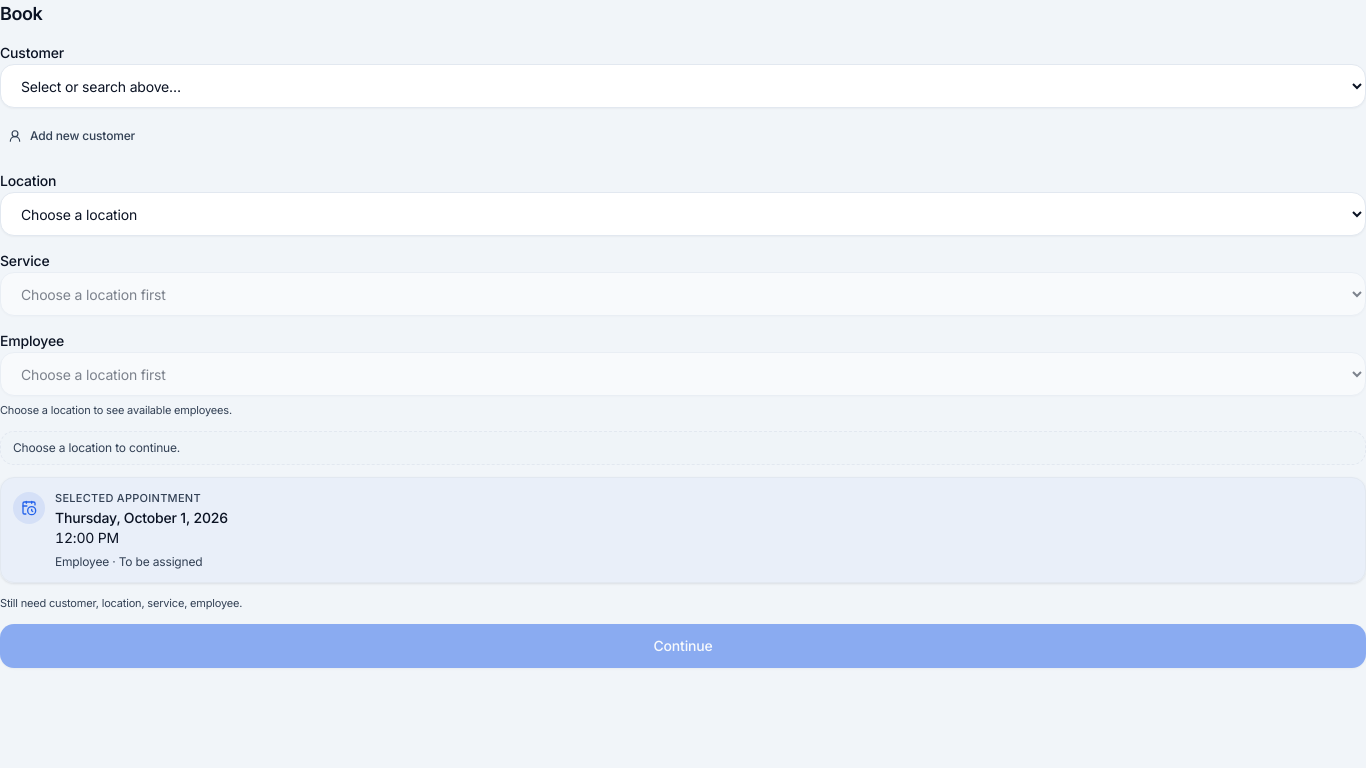
M1B Quick Appointment › places Location before Service, keeps draft null and latent fallbacks unreachable until explicit choice
Expected: the dropdown labelled "Service" is disabled, [0,272,1365,316]
Expected: the dropdown labelled "Employee" is disabled, [0,352,1365,396]
Select "Location B" in the dropdown labelled "Location" at (683, 214), box [0,192,1365,236]
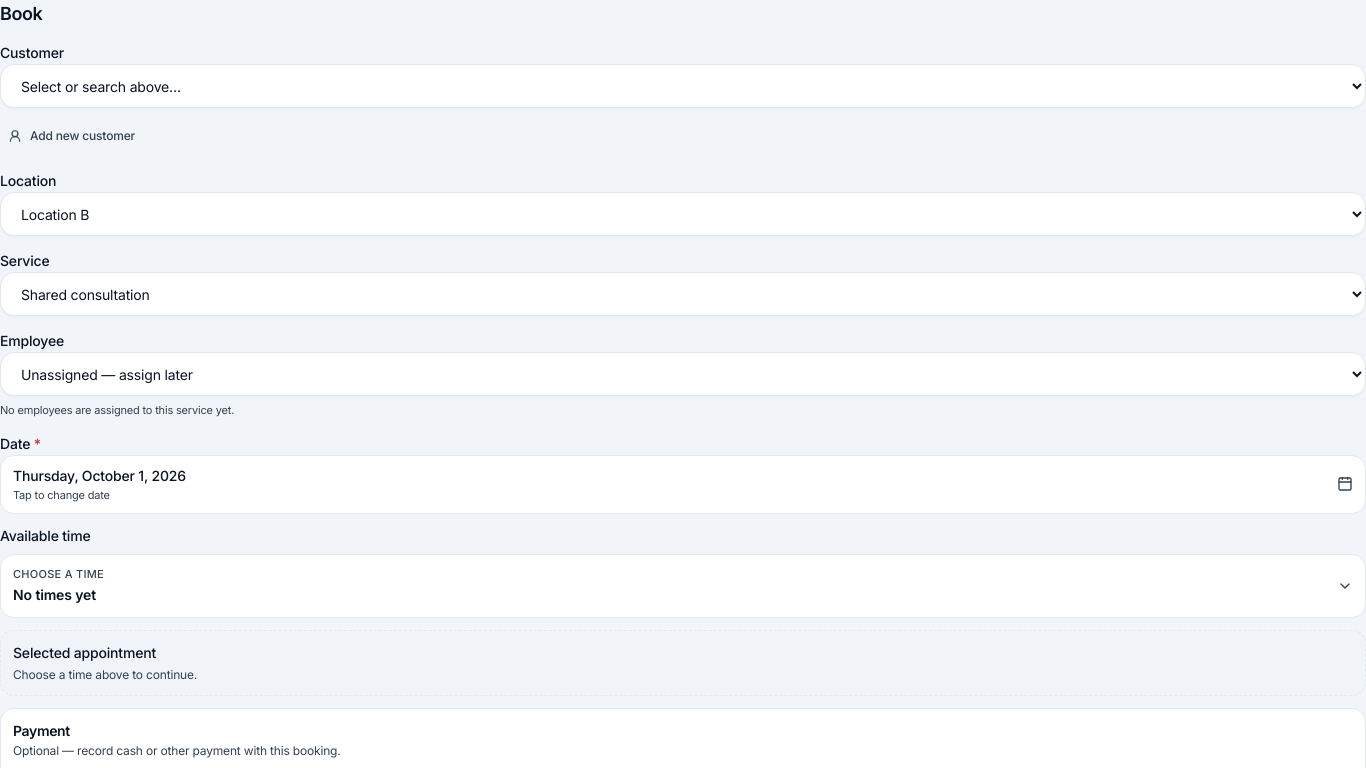
Result: the text "Choose a location" is gone
